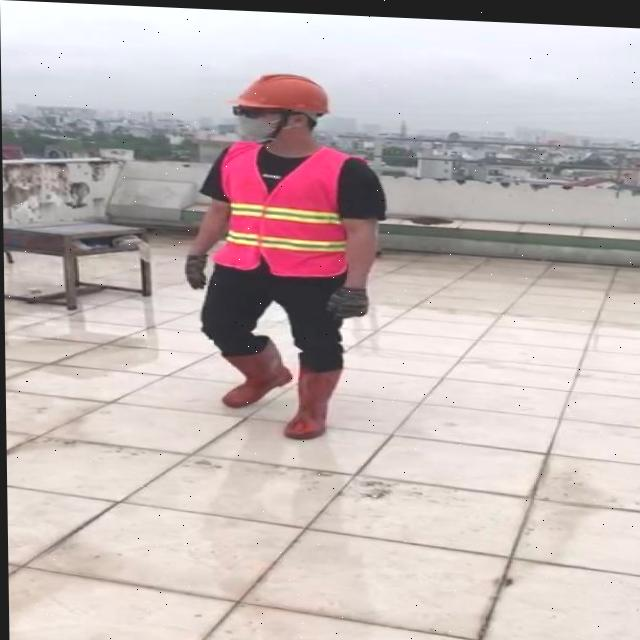Gloves: (325, 282, 369, 316), (185, 251, 207, 287)
Helmet: (226, 66, 332, 114)
Safety-Boot: (220, 331, 292, 408), (283, 351, 344, 438)
Safety-Vest: (207, 136, 367, 277)
